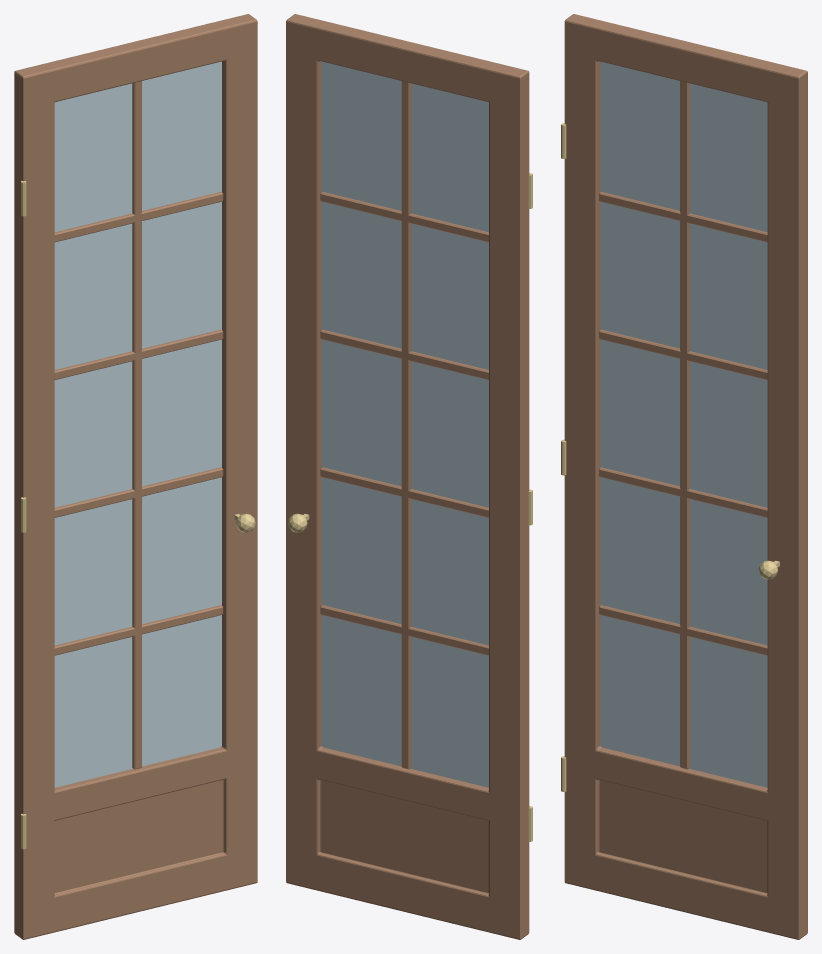
The model's file is door_leaf_french.glb.
3 views of the same model, side by side, from view 1: azimuth 30°, elevation 25°; view 2: azimuth 150°, elevation 25°; view 3: azimuth 330°, elevation 25° (orthographic).
Parts seen in each view (by area): view 1: door_leaf_french_door, door_leaf_french_glass, door_leaf_french_brass; view 2: door_leaf_french_door, door_leaf_french_glass, door_leaf_french_brass; view 3: door_leaf_french_door, door_leaf_french_glass, door_leaf_french_brass.
Boxes of the visible parts, box(x1,y1,x2,y2) form: door_leaf_french_door: box(14, 14, 257, 939); door_leaf_french_glass: box(54, 61, 221, 787); door_leaf_french_brass: box(21, 181, 255, 849); door_leaf_french_door: box(286, 14, 529, 939); door_leaf_french_glass: box(321, 61, 488, 787); door_leaf_french_brass: box(288, 173, 532, 841); door_leaf_french_door: box(564, 14, 807, 939); door_leaf_french_glass: box(600, 61, 767, 787); door_leaf_french_brass: box(561, 123, 779, 791).
Size of the model in its own units: 0.667 by 2.32 by 0.183.
